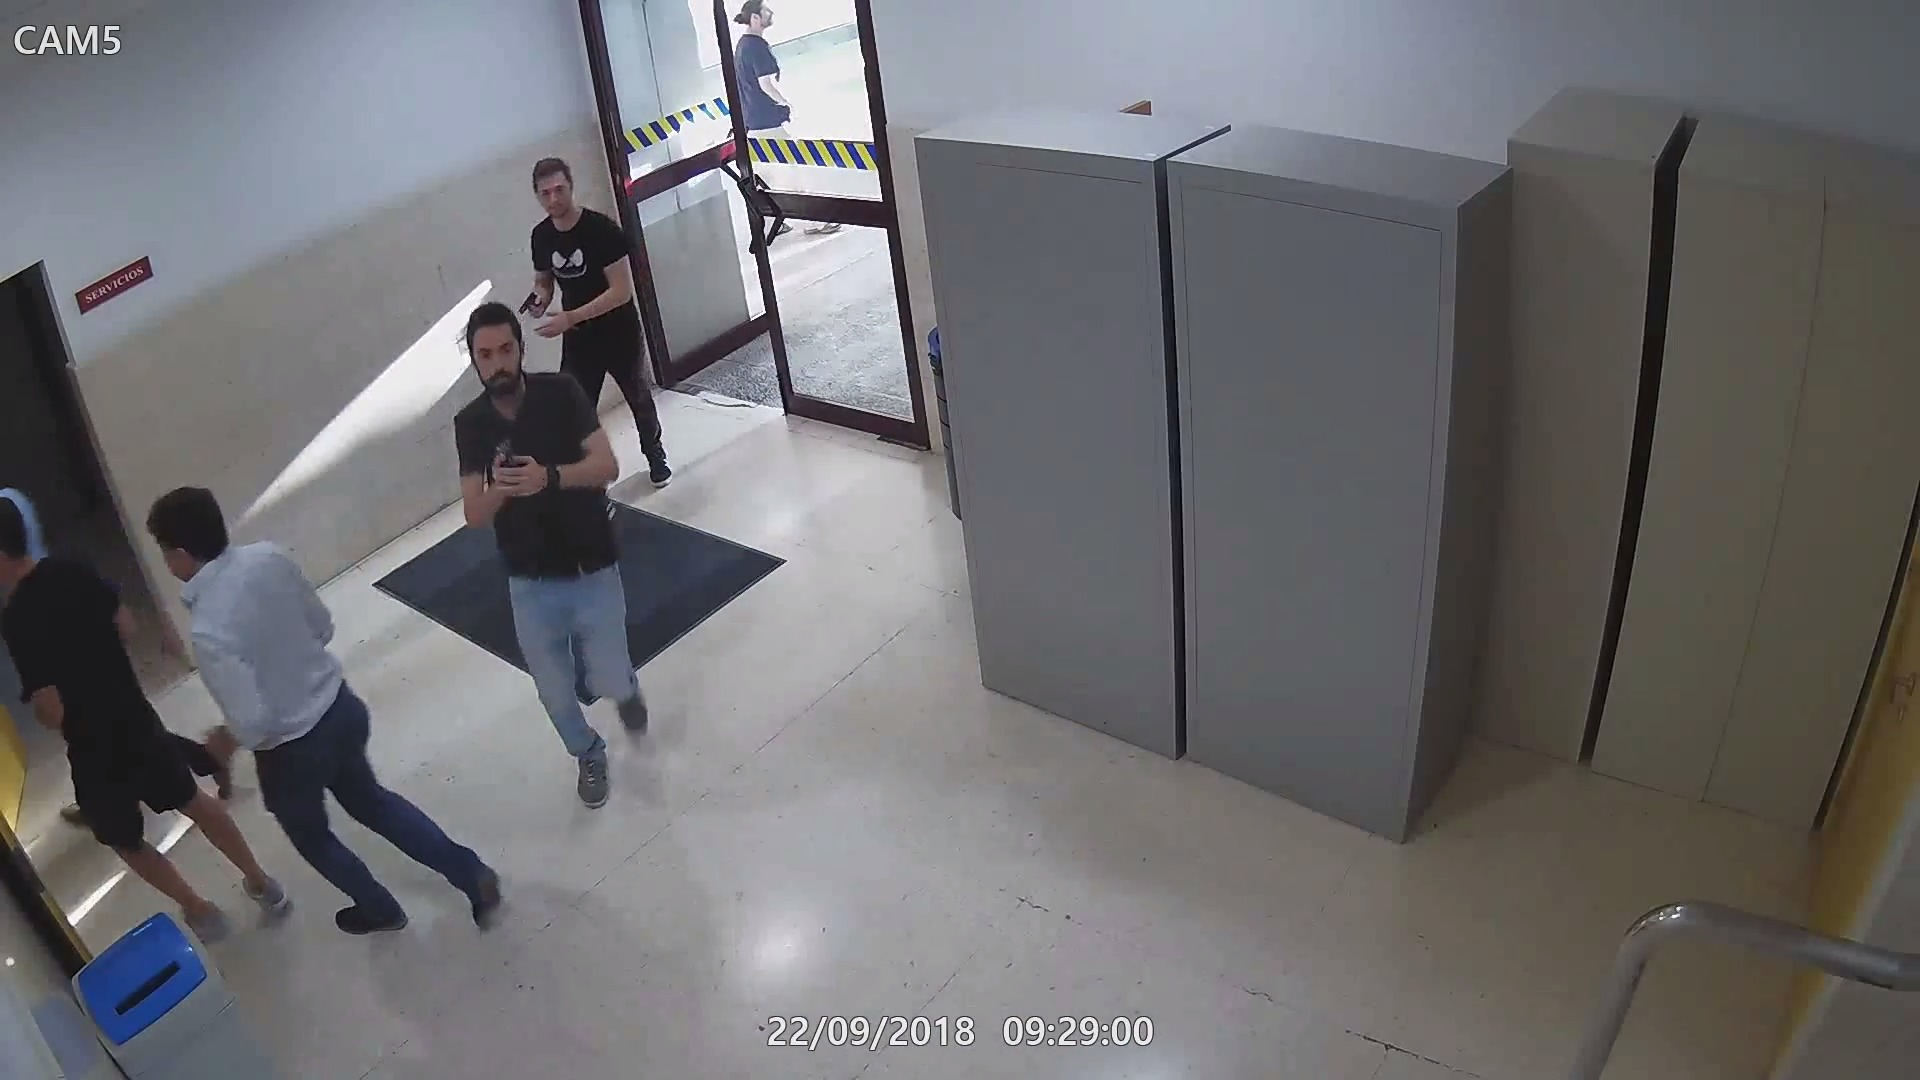Handgun: (493, 433, 522, 498), (517, 286, 545, 324)
